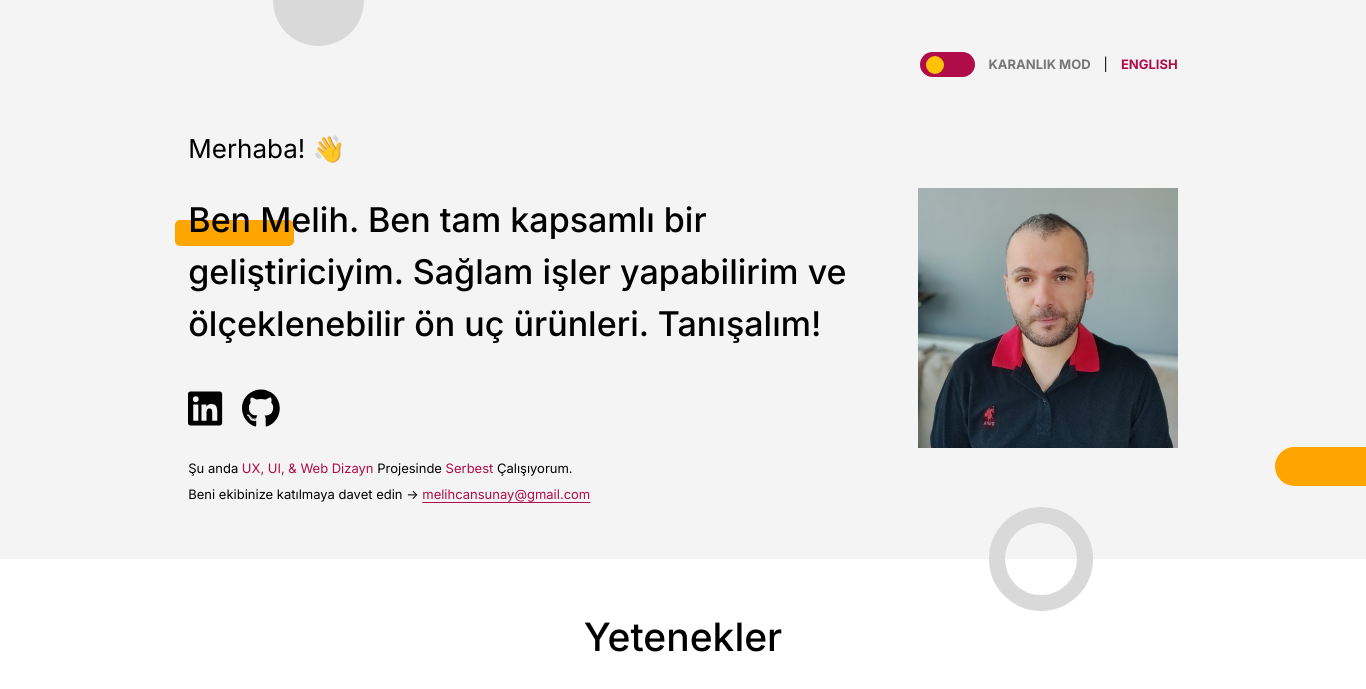
it: Test-2 Language Toggle › toggles the language
Expected: the text "Merhaba!" is shown, [188,133,305,164]
Dil değiştirme düğmesine tıklayın
Click the button with test id "language-toggle" at (1150, 65), box [1121,58,1178,71]
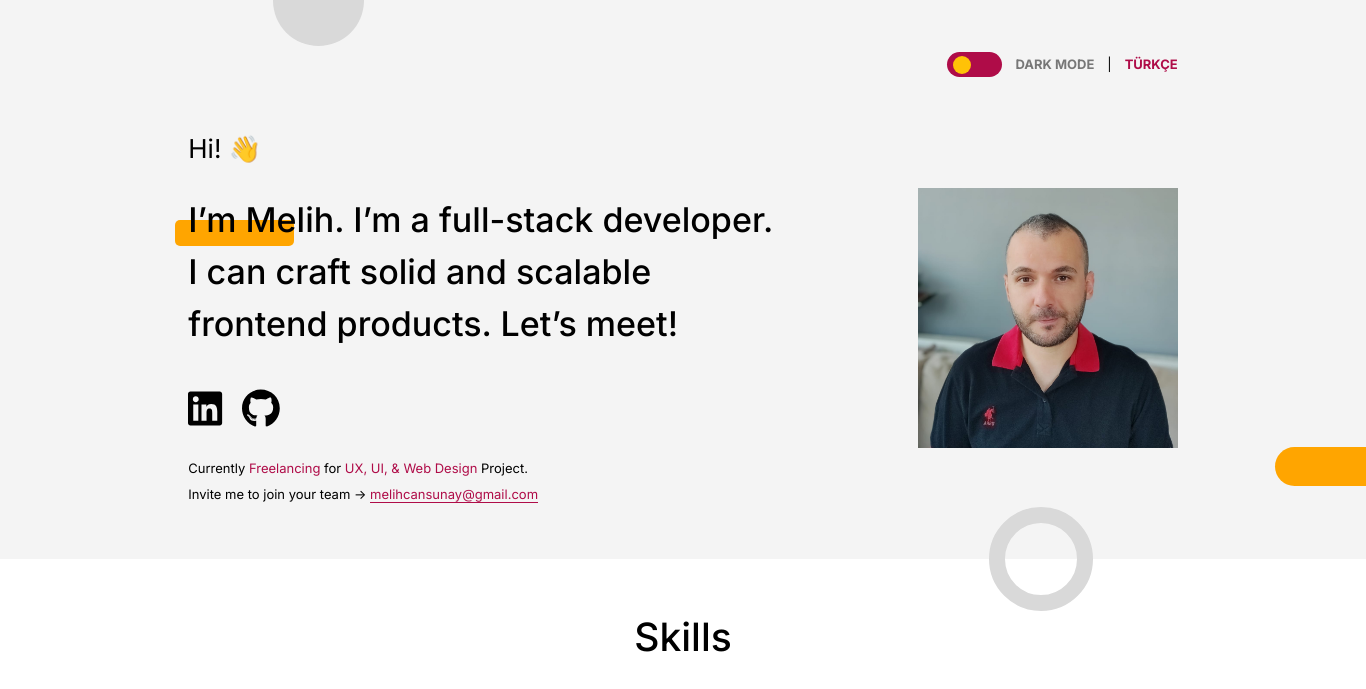
Expected: the text "Hi!" is shown, [188,133,221,164]
Tekrar tıklayarak başlangıç diline dönün
Click the button with test id "language-toggle" at (1152, 65), box [1125,58,1178,71]
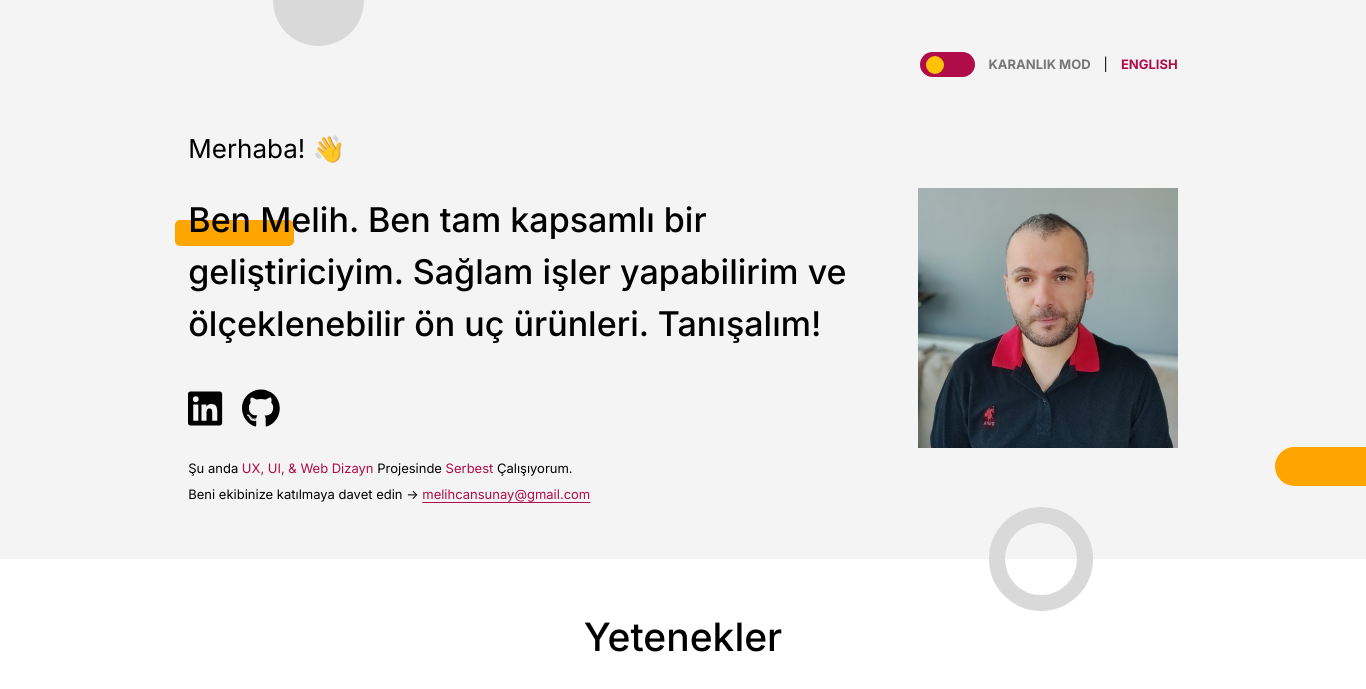
Expected: the text "Merhaba!" is shown, [188,133,305,164]
